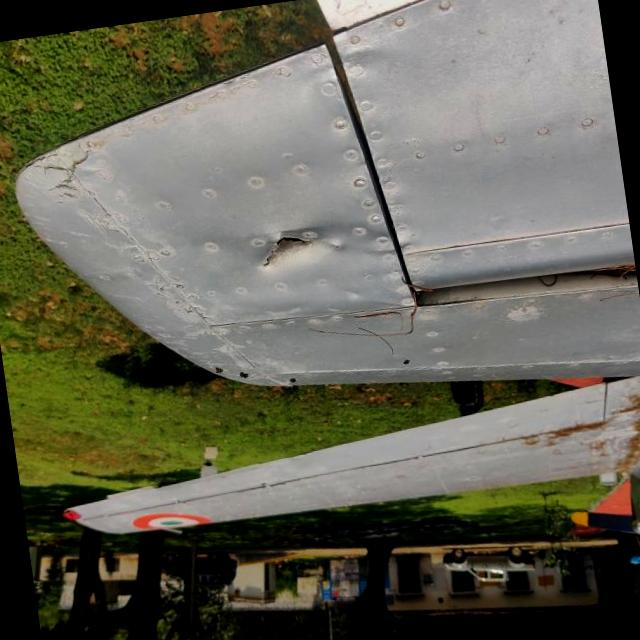crack: (252, 218, 350, 284)
